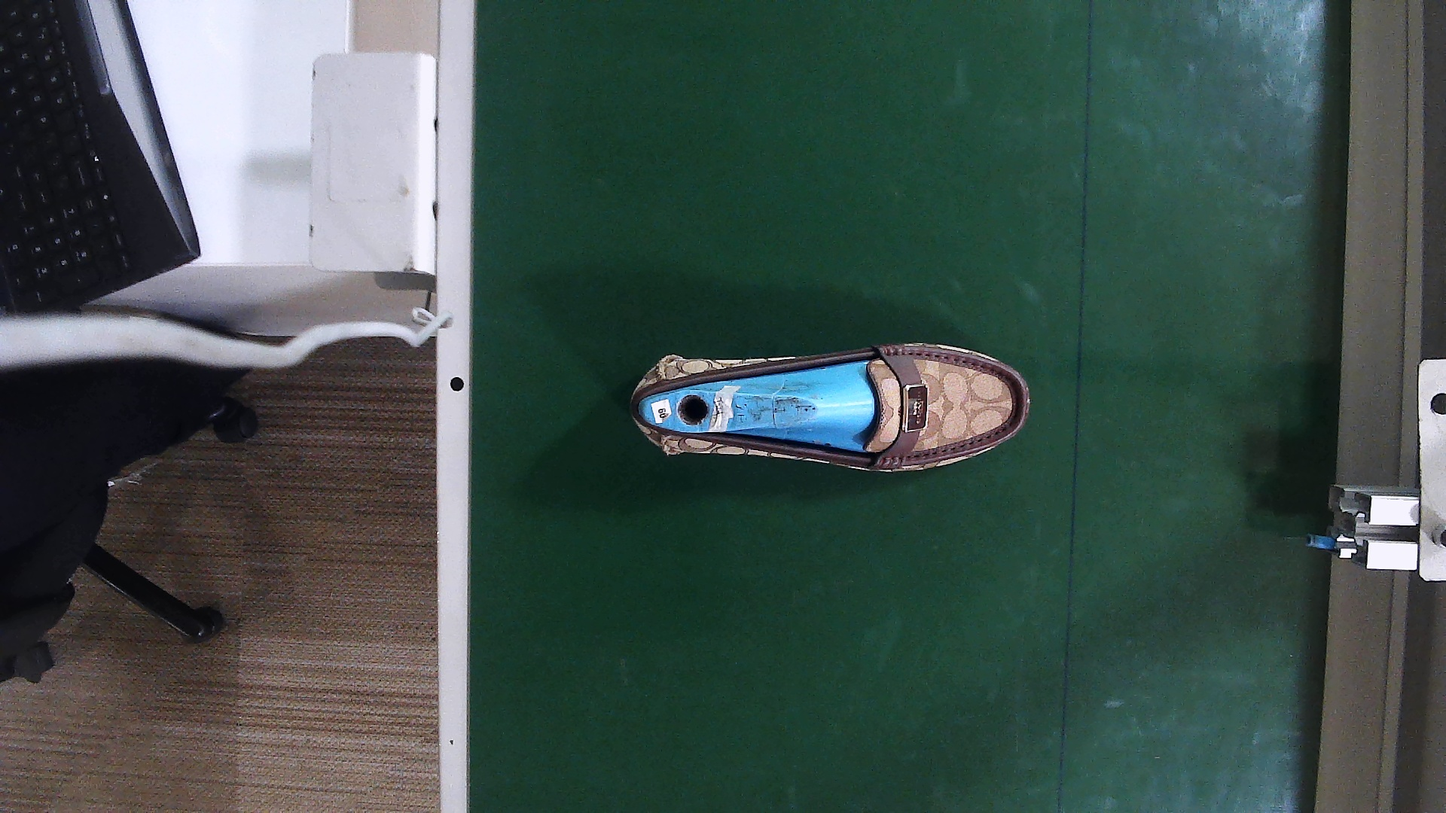shoe: (633, 346, 1027, 472)
